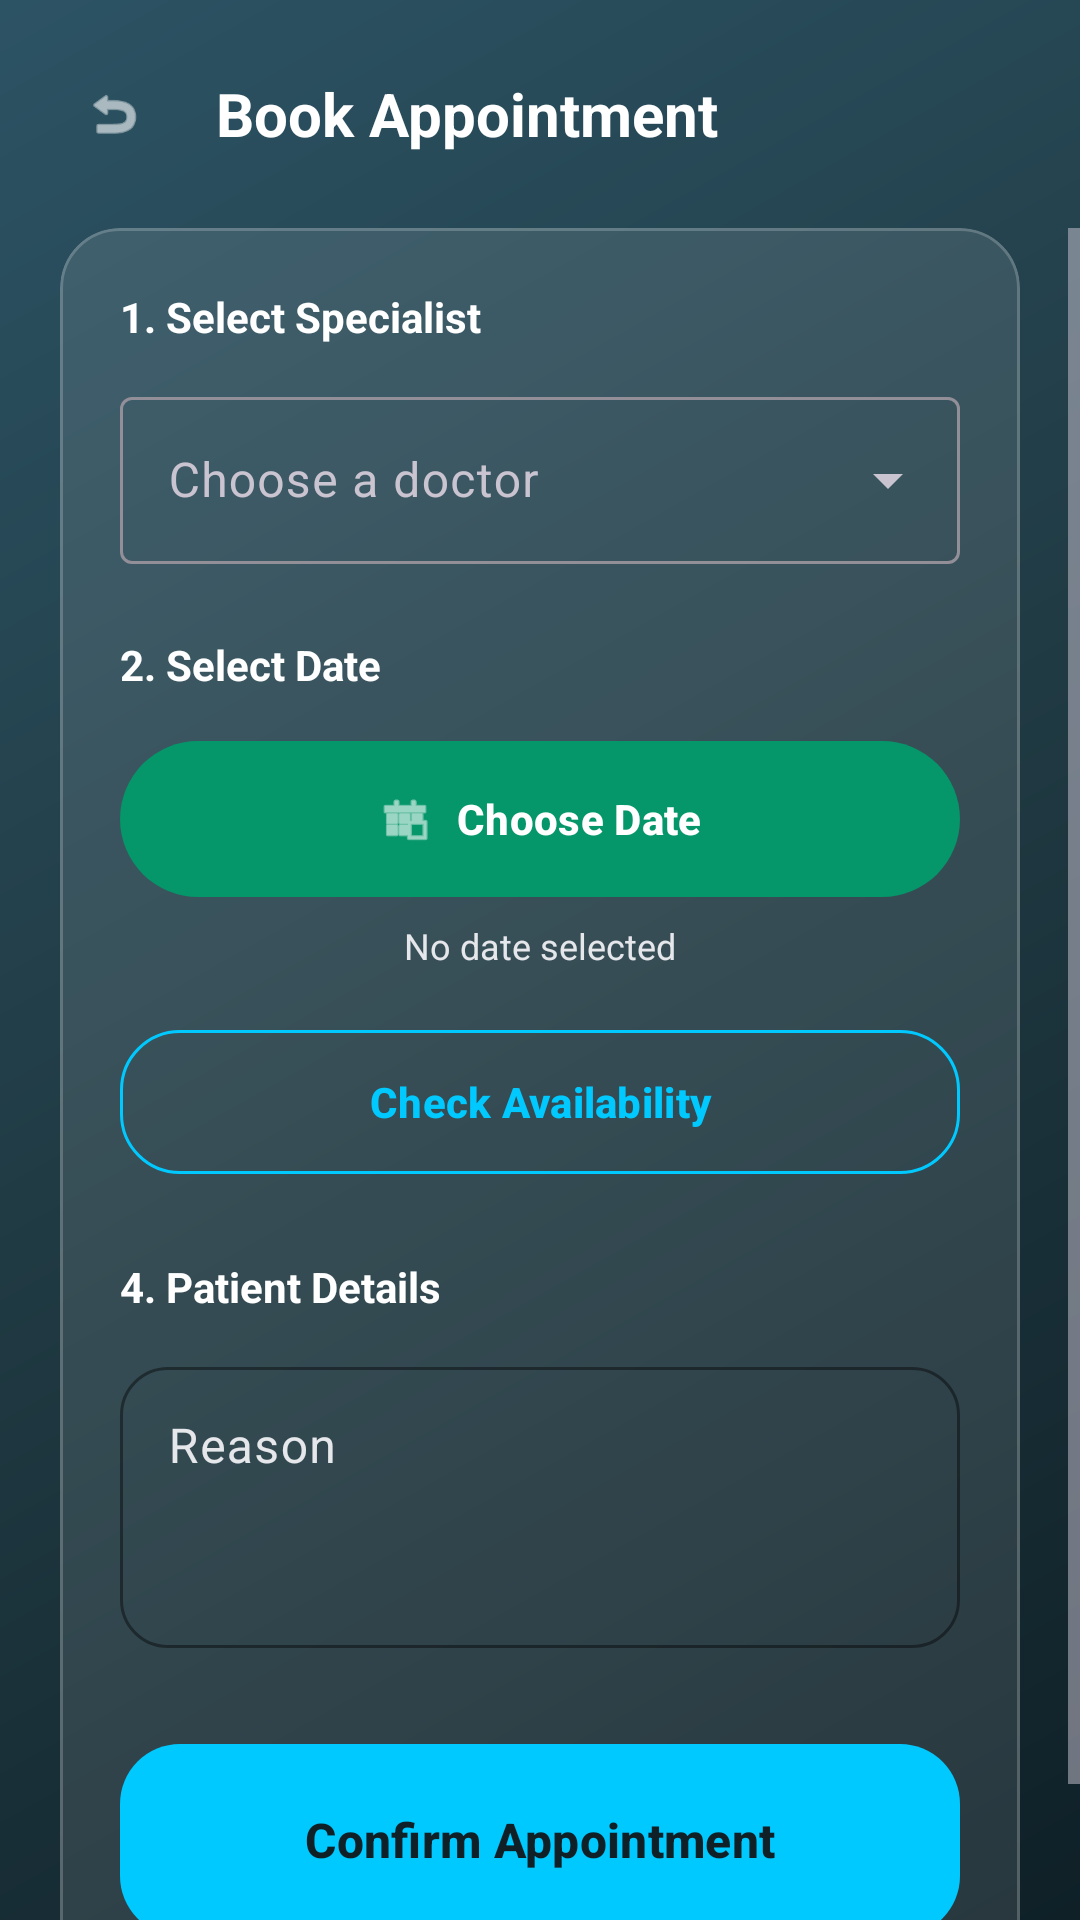

Icons on this 1080×1920 Android screen, each with the point to tap as (x,y):
revert: (114,114)
